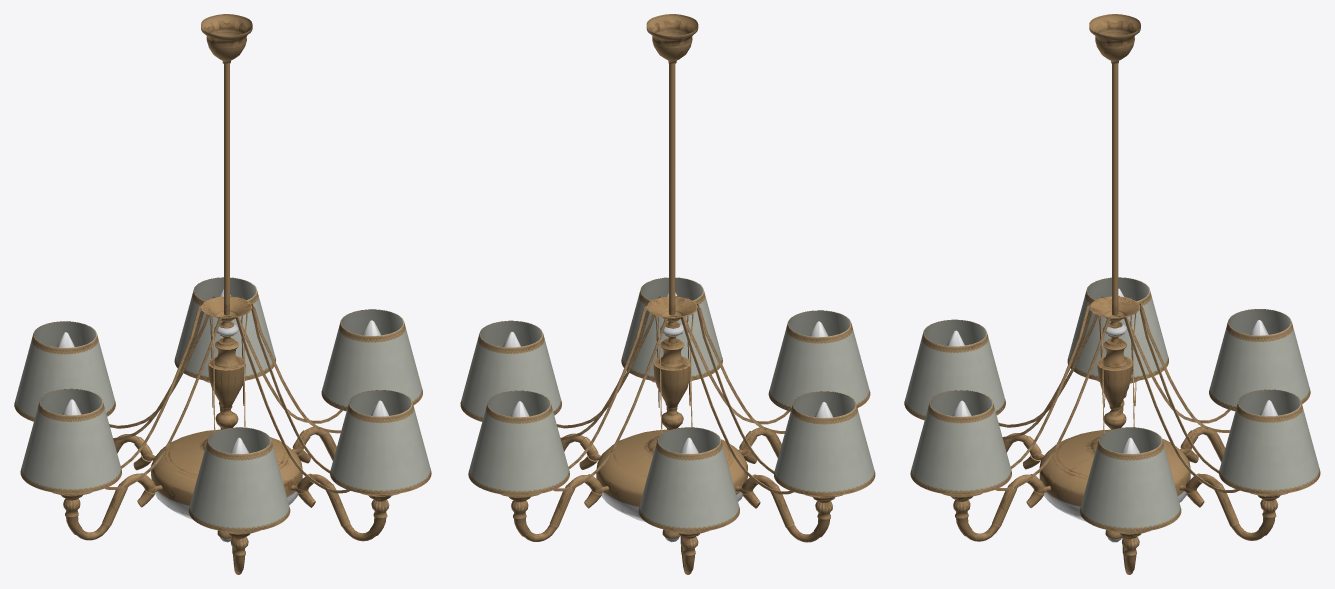
Rendered from Chandelier_02.glb.
3 views of the same model, side by side, from view 1: azimuth 30°, elevation 25°; view 2: azimuth 150°, elevation 25°; view 3: azimuth 270°, elevation 25° (orthographic).
Parts seen in each view (by area): view 1: Chandelier_02; view 2: Chandelier_02; view 3: Chandelier_02.
Part boxes in pixels (box(x1,y1,x2,y2)): Chandelier_02: box(14, 14, 431, 574); Chandelier_02: box(460, 14, 875, 574); Chandelier_02: box(904, 14, 1320, 574).
Bounding box in the file's own units: 0.679 × 0.8481 × 0.6191.
Materials: 2 (1 with a texture image).
